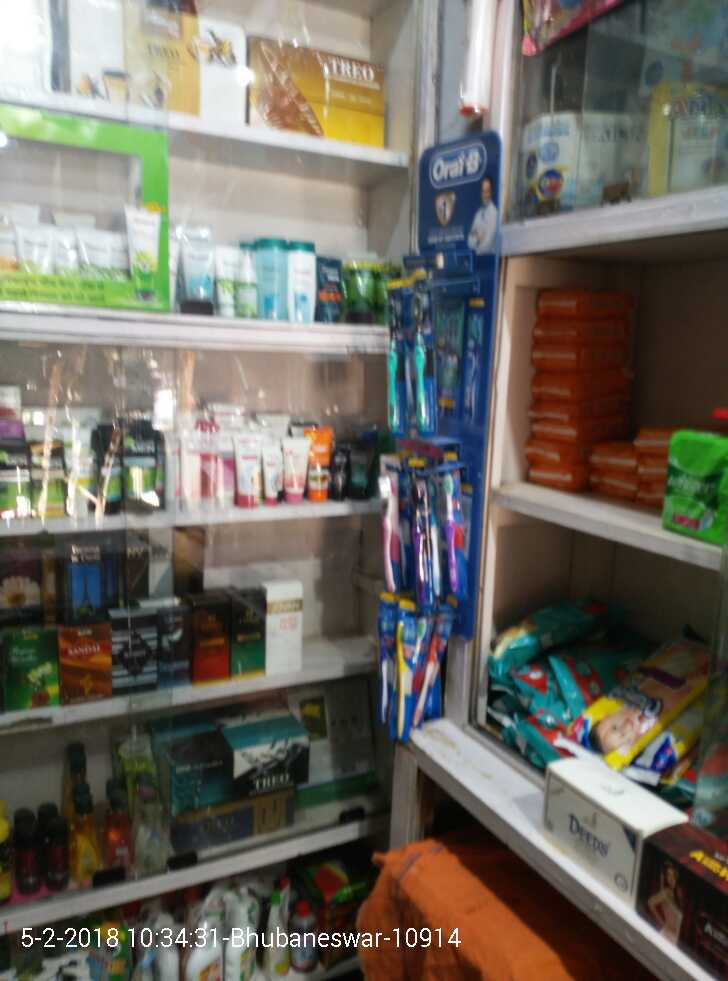pharmacy: (371, 272, 478, 728), (659, 426, 725, 545)
